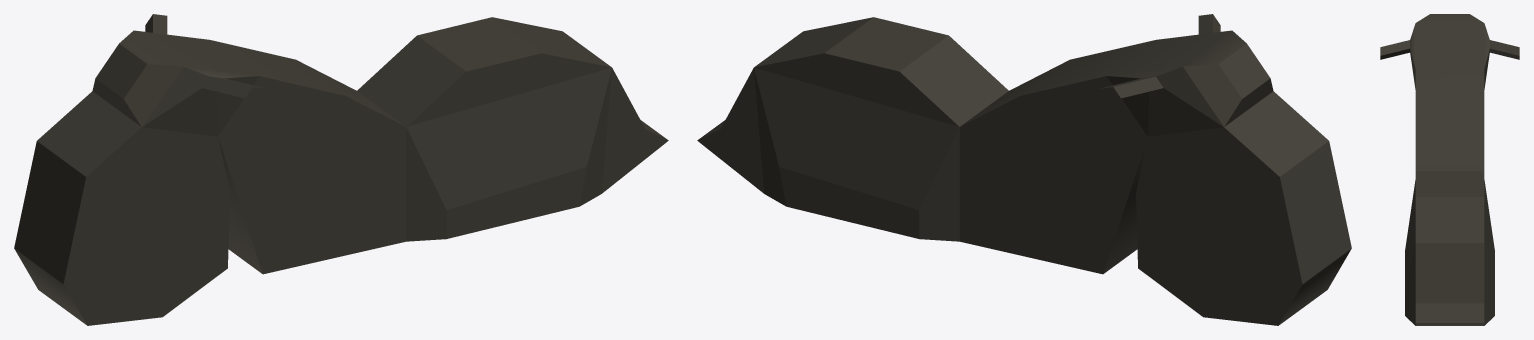
File: MotorbikeLOD.obj
3 views of the same model, side by side, from view 1: azimuth 30°, elevation 25°; view 2: azimuth 150°, elevation 25°; view 3: azimuth 270°, elevation 25° (orthographic). The views are drawn at different scales.
Visible parts, largest first — view 1: pCube1; view 2: pCube1; view 3: pCube1.
Boxes of the visible parts, bbox=[...] form: pCube1: bbox=[14, 14, 668, 325]; pCube1: bbox=[697, 14, 1351, 325]; pCube1: bbox=[1380, 14, 1519, 325].
Size of the model in its own units: 193 by 75.24 by 55.15.
